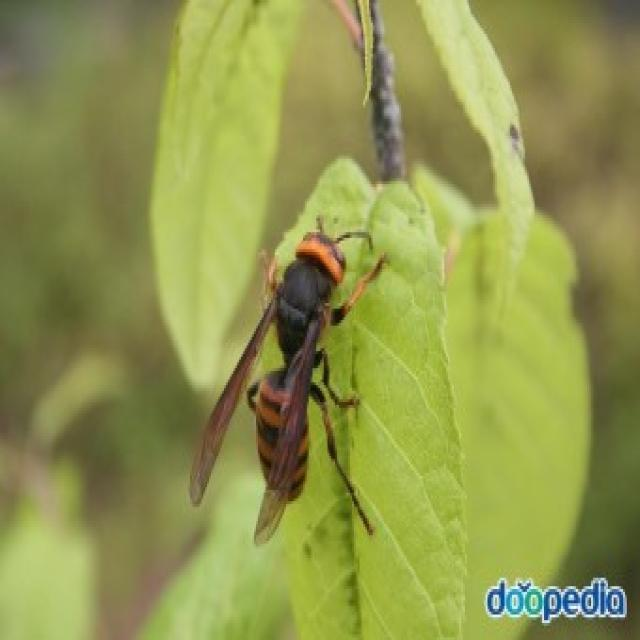-: (192, 226, 388, 538)
